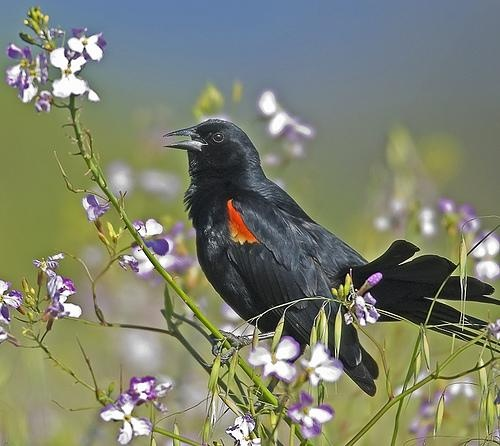bird: (162, 118, 491, 395)
